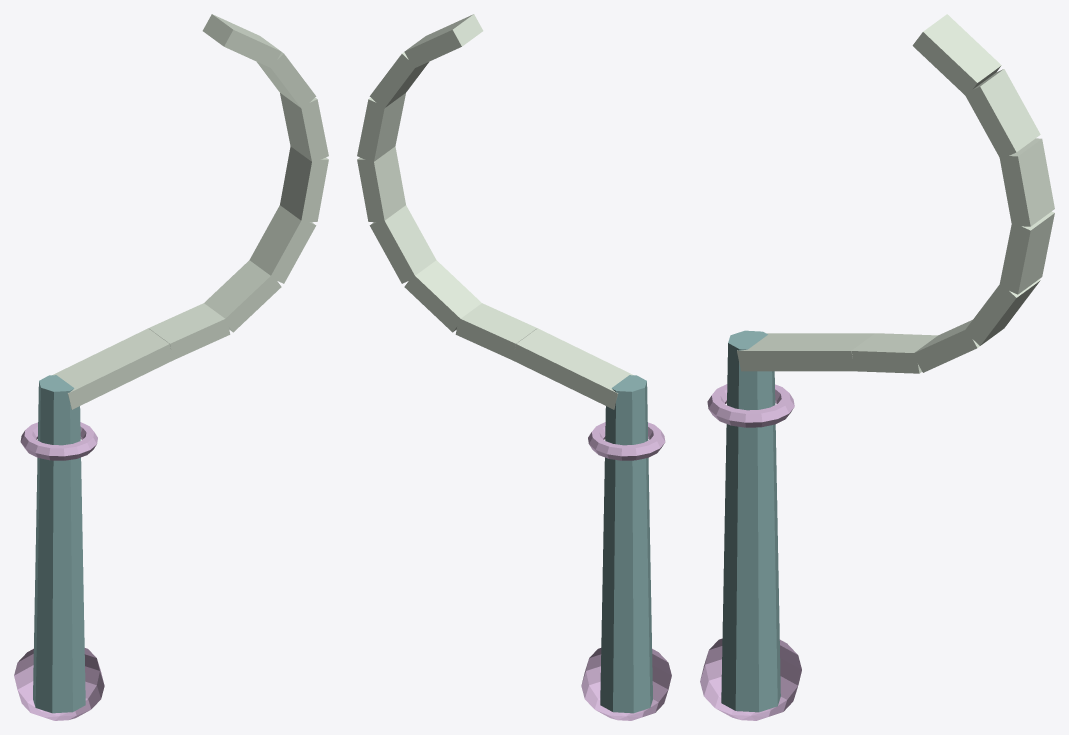
File: runestone-conservatory-rune-pruning-sickle__117.glb
3 views of the same model, side by side, from view 1: azimuth 30°, elevation 25°; view 2: azimuth 150°, elevation 25°; view 3: azimuth 330°, elevation 25° (orthographic). The views are drawn at different scales.
Visible parts, largest first — view 1: runestone-conservatory-pruning-sickle; view 2: runestone-conservatory-pruning-sickle; view 3: runestone-conservatory-pruning-sickle.
Part boxes in pixels (<box>): runestone-conservatory-pruning-sickle: <box>14,14,328,720</box>; runestone-conservatory-pruning-sickle: <box>357,14,671,720</box>; runestone-conservatory-pruning-sickle: <box>700,14,1054,720</box>.
Size of the model in its own units: 0.4423 by 0.9236 by 0.12.
